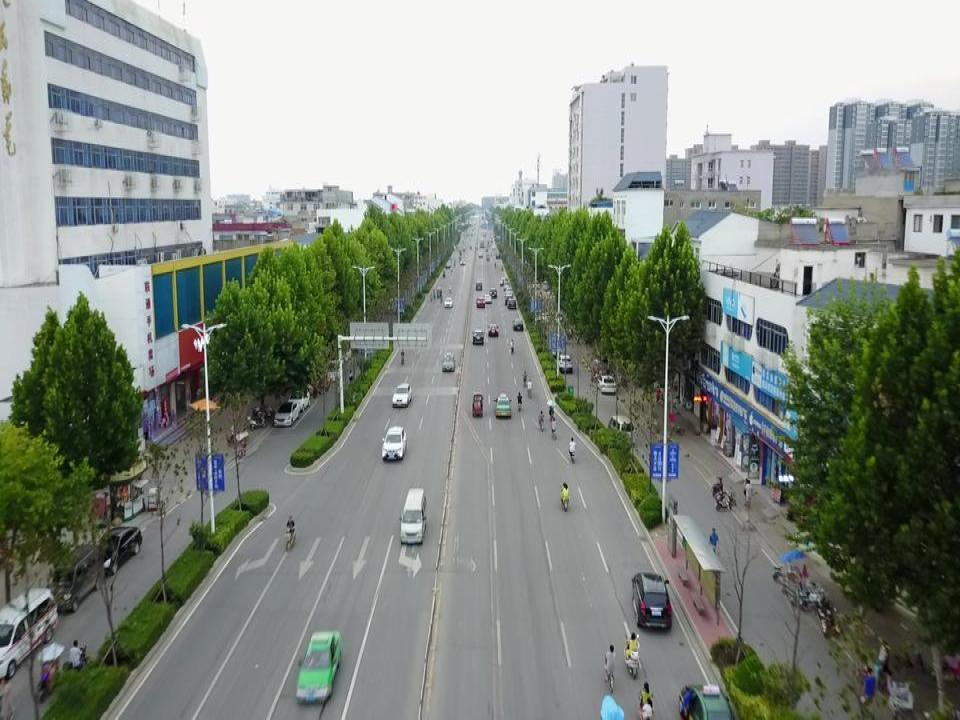car: (297, 628, 340, 704), (631, 571, 670, 628), (678, 681, 732, 720), (94, 525, 144, 567), (381, 425, 405, 459), (274, 401, 300, 428), (392, 381, 412, 406), (289, 387, 311, 408), (495, 392, 511, 417), (595, 375, 616, 393), (557, 355, 573, 372), (443, 352, 455, 373), (472, 328, 484, 345), (488, 323, 499, 337), (513, 318, 523, 330), (507, 296, 515, 311), (476, 296, 485, 309), (444, 296, 453, 308), (483, 292, 492, 303), (489, 286, 497, 298), (506, 287, 514, 297), (502, 281, 510, 291), (475, 280, 482, 289), (500, 276, 507, 285)
van: (0, 587, 55, 677), (45, 545, 105, 603), (401, 484, 427, 547), (607, 413, 636, 444)
